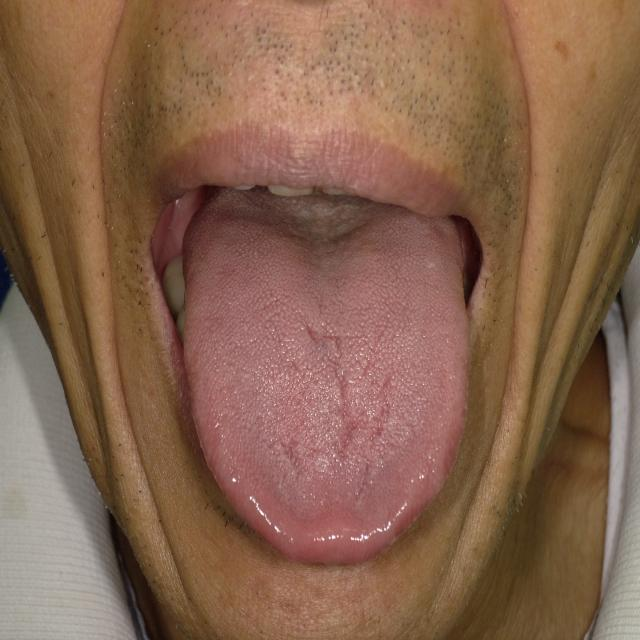baitaishe: (182, 188, 467, 565)
liewenshe: (303, 320, 391, 458)
xinfeiao: (245, 190, 387, 252)
